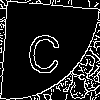C: (25, 25, 63, 75)
